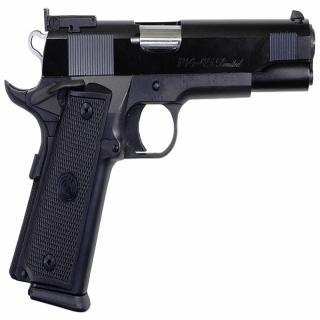gun: (2, 1, 318, 319)
